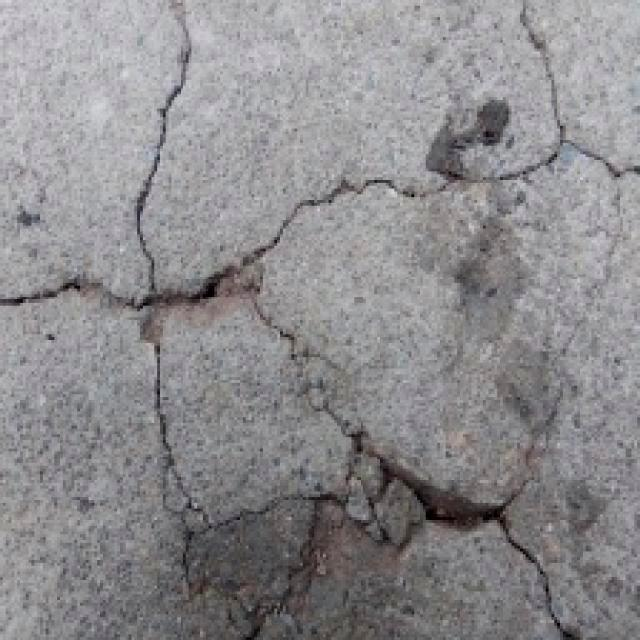SurfaceCrack: (86, 0, 224, 640), (136, 434, 638, 606), (484, 0, 580, 190)
